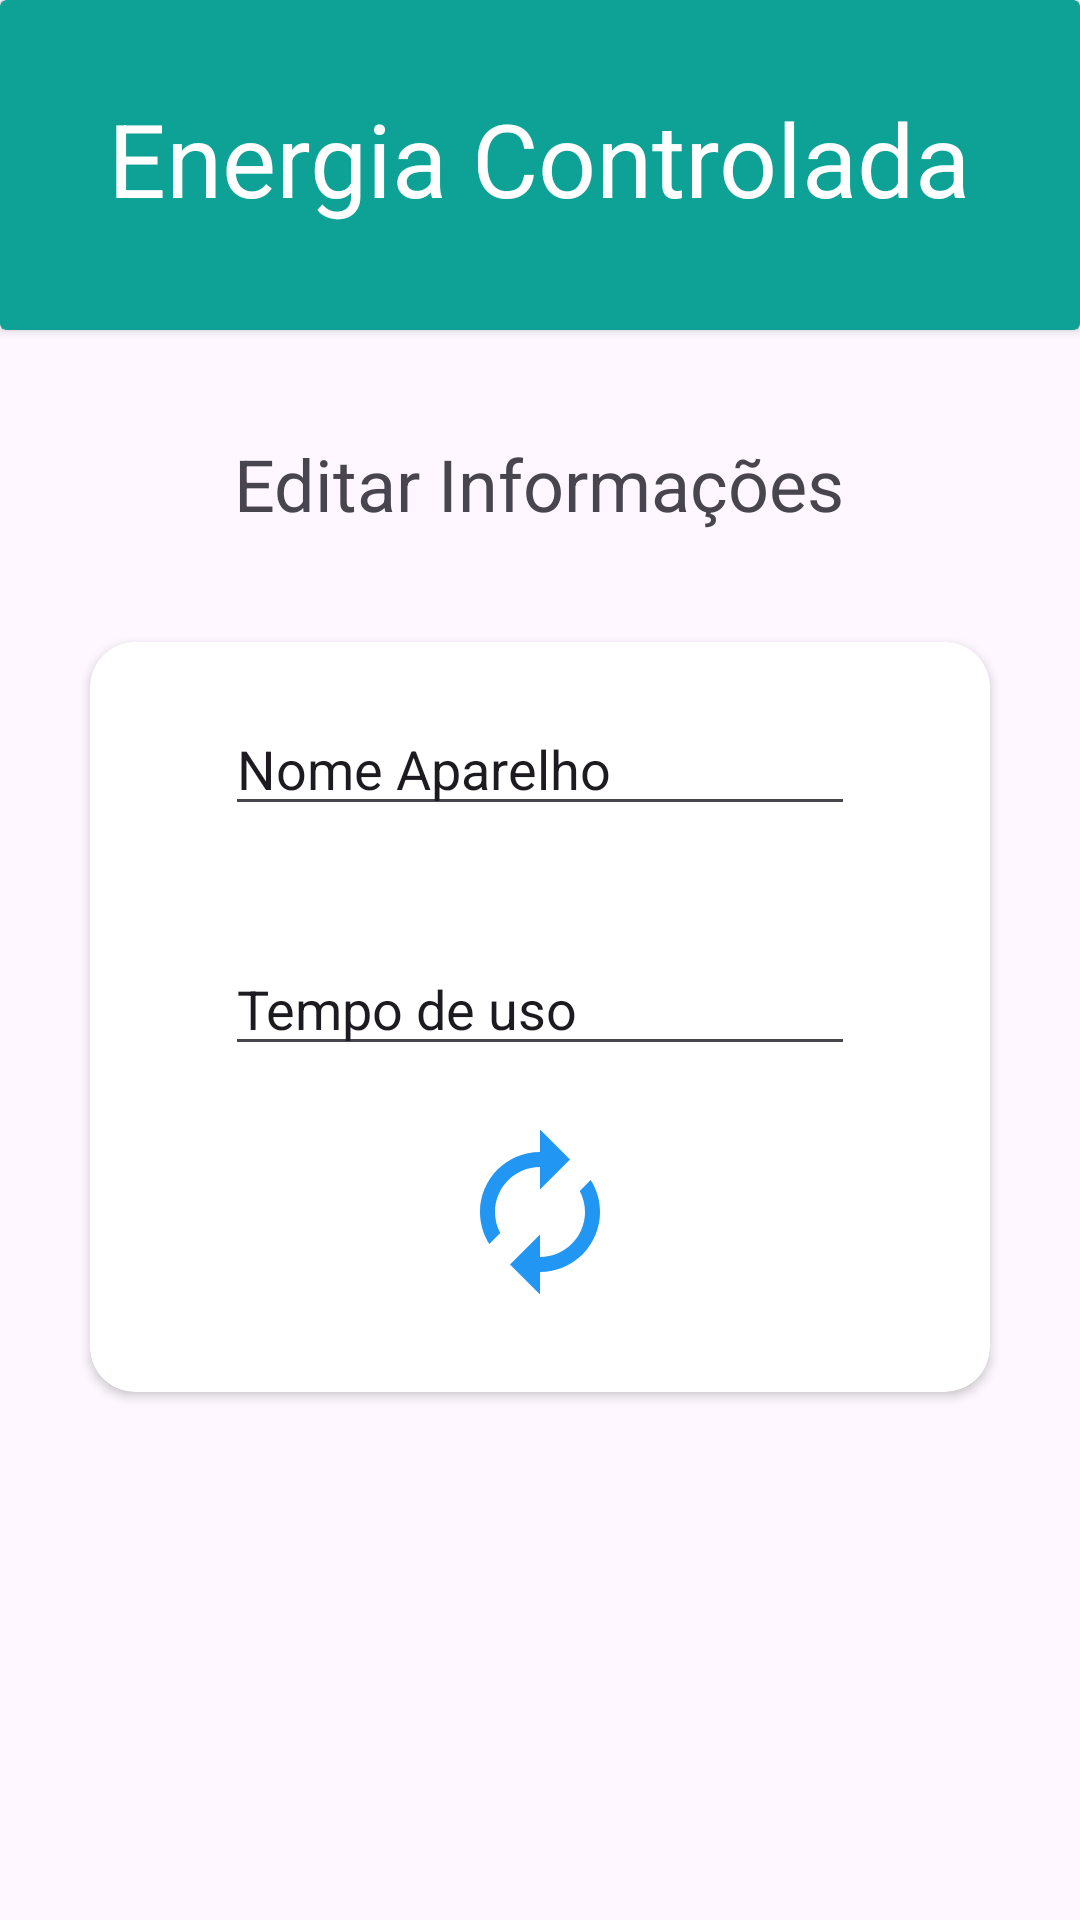

Screen size 1080px x 1920px. Icon name, then its center in pixels as [x,y]:
autorenew: [540,1212]
